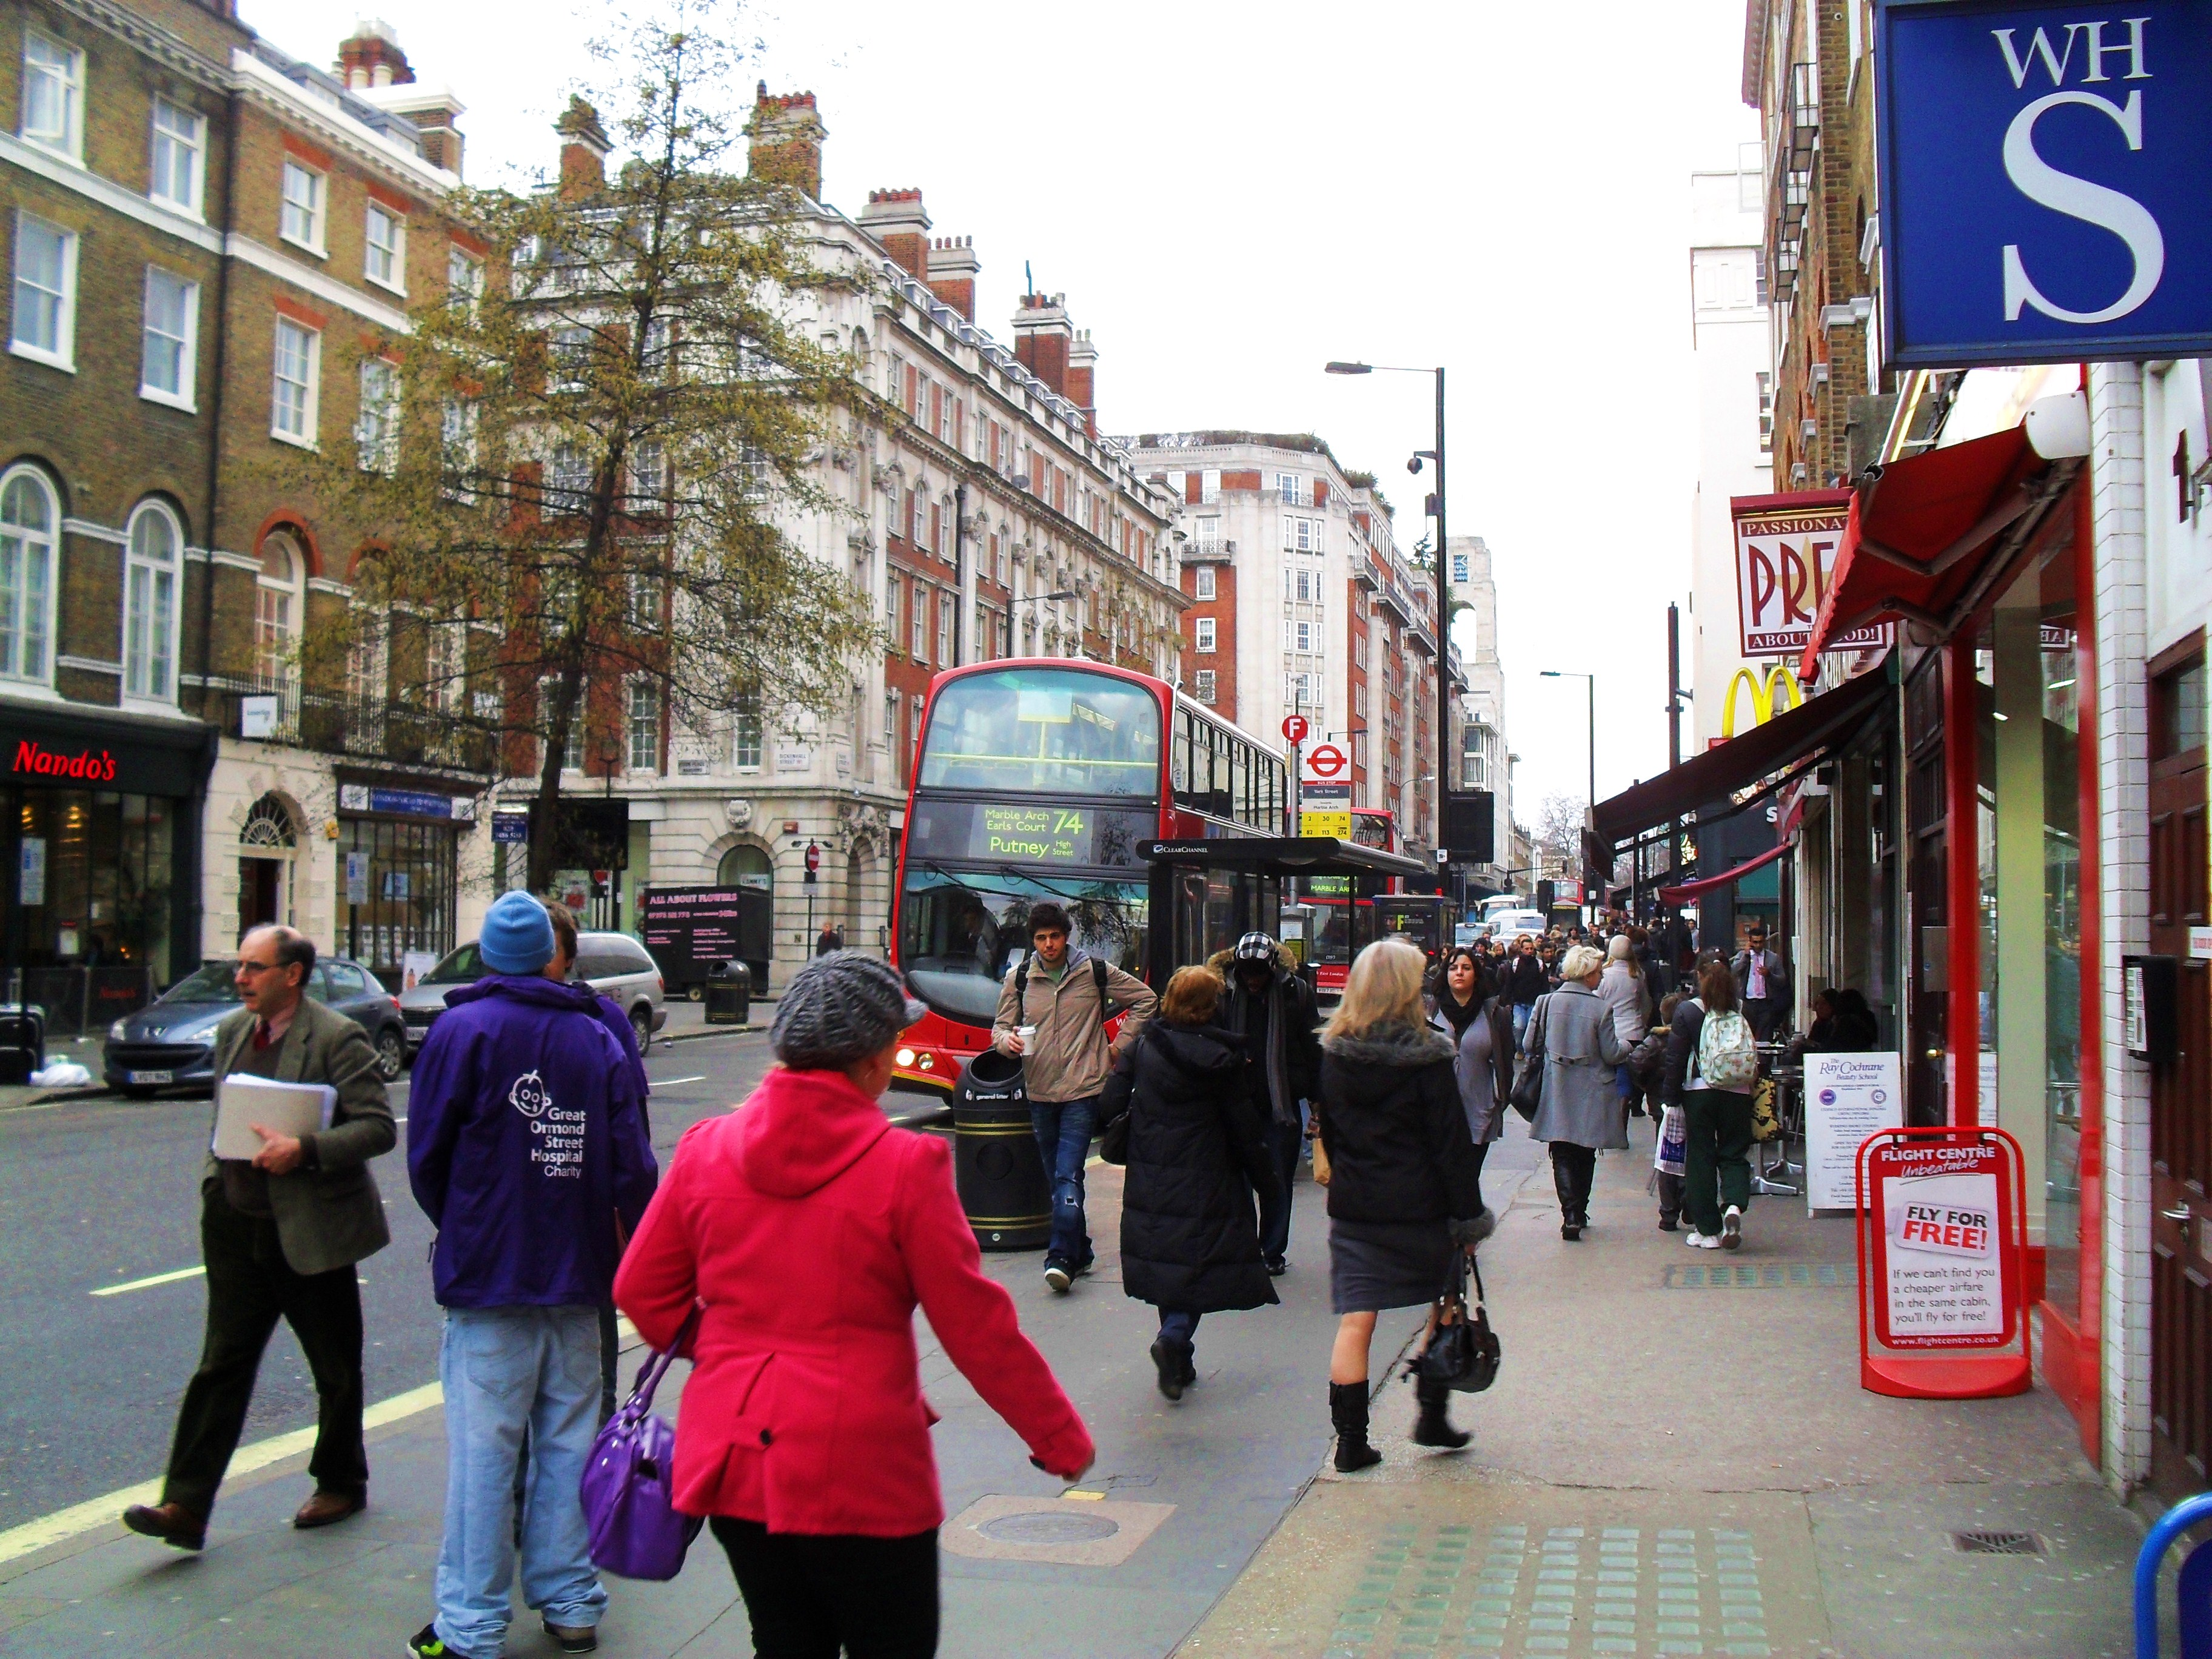person: (624, 947, 1125, 1643), (396, 884, 625, 1659), (130, 905, 404, 1553), (1293, 934, 1527, 1472), (1107, 955, 1282, 1413), (975, 892, 1155, 1300), (1646, 971, 1791, 1273), (1512, 936, 1646, 1252), (1421, 959, 1506, 1134), (1736, 917, 1788, 1016), (1598, 930, 1638, 1001)
